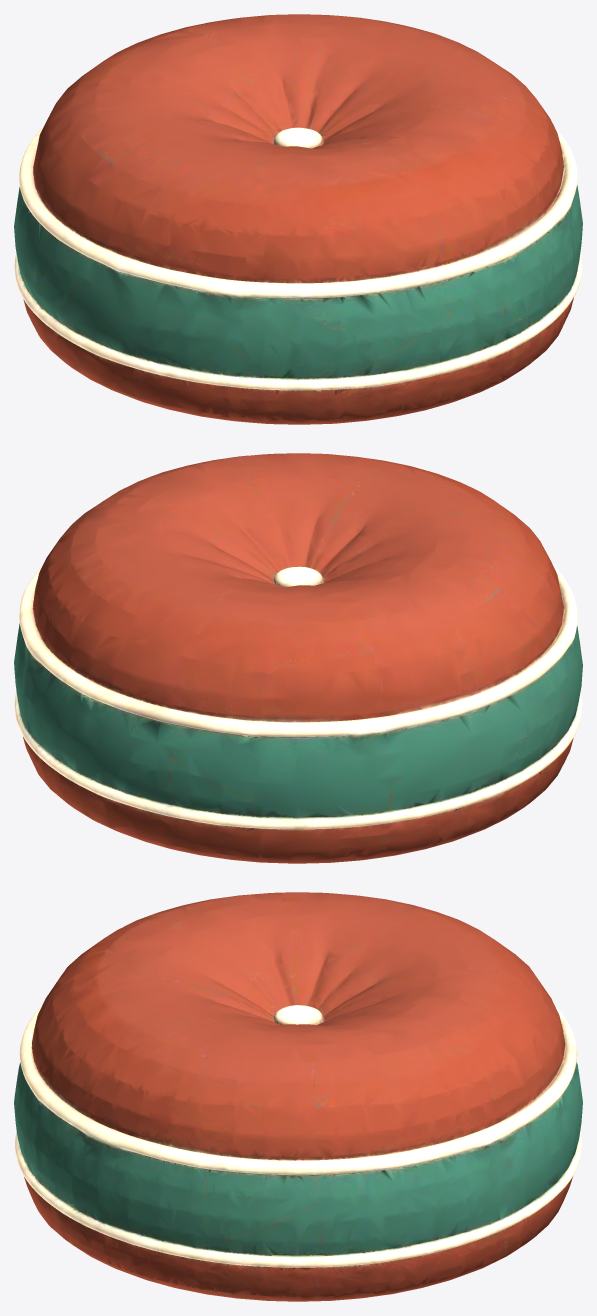
Rendered from majlis-cushion-variant-01-terracotta-classic-round.glb.
The picture shows the model from 3 angles, top to bottom: view 1: azimuth 30°, elevation 25°; view 2: azimuth 150°, elevation 25°; view 3: azimuth 270°, elevation 25°; orthographic projection.
Visible parts, largest first — view 1: mesh_node; view 2: mesh_node; view 3: mesh_node.
Boxes of the visible parts, x1,y1,x2,y2 form: mesh_node: (14, 14, 582, 424); mesh_node: (14, 453, 582, 863); mesh_node: (14, 892, 582, 1301).
Bounding box in the file's own units: 1.9 × 0.8541 × 1.9.
1 material, 1 textured.
